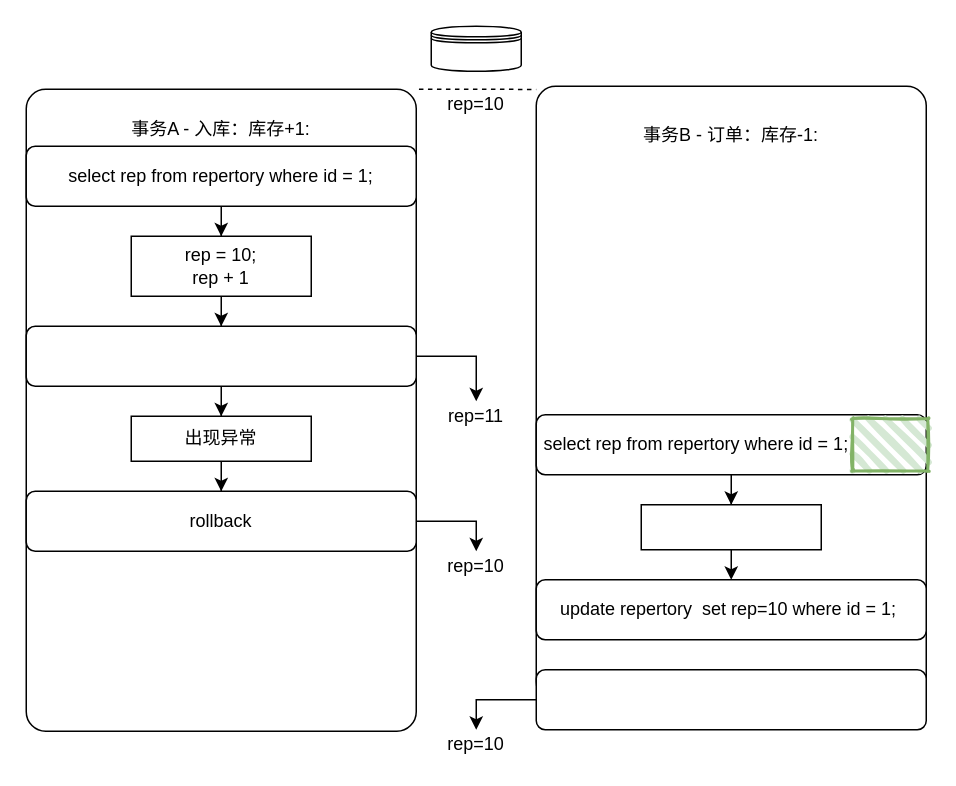
Some shapes in this 956 by 786 pixel diagram are drawn without their labels. Here are the shapes that lost their labels. From the top down, the centre of each, then its label:
At point 220,355: "update repertory set rep=11 where id = 1;".
At point 889,444: "脏读".
At point 730,526: "rep = 11; rep - 1".
At point 730,699: "commit".
